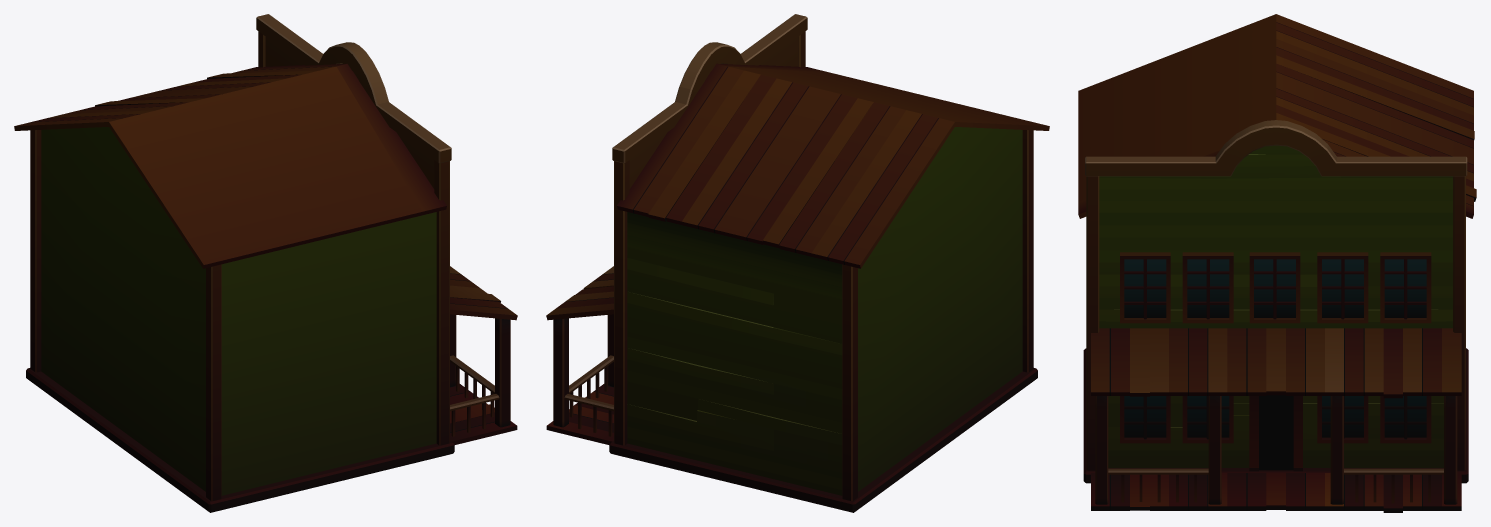
File: building_2.fbx
3 renders of one model, left to right at view 1: azimuth 30°, elevation 25°; view 2: azimuth 150°, elevation 25°; view 3: azimuth 270°, elevation 25°, orthographic. The views are drawn at different scales.
Parts seen in each view (by area): view 1: building_2; view 2: building_2; view 3: building_2.
Boxes of the visible parts, left/top/right/bottom form: building_2: left=14, top=14, right=517, bottom=512; building_2: left=546, top=14, right=1049, bottom=512; building_2: left=1078, top=14, right=1476, bottom=512.
Size of the model in its own units: 10.41 by 10.56 by 10.69.
